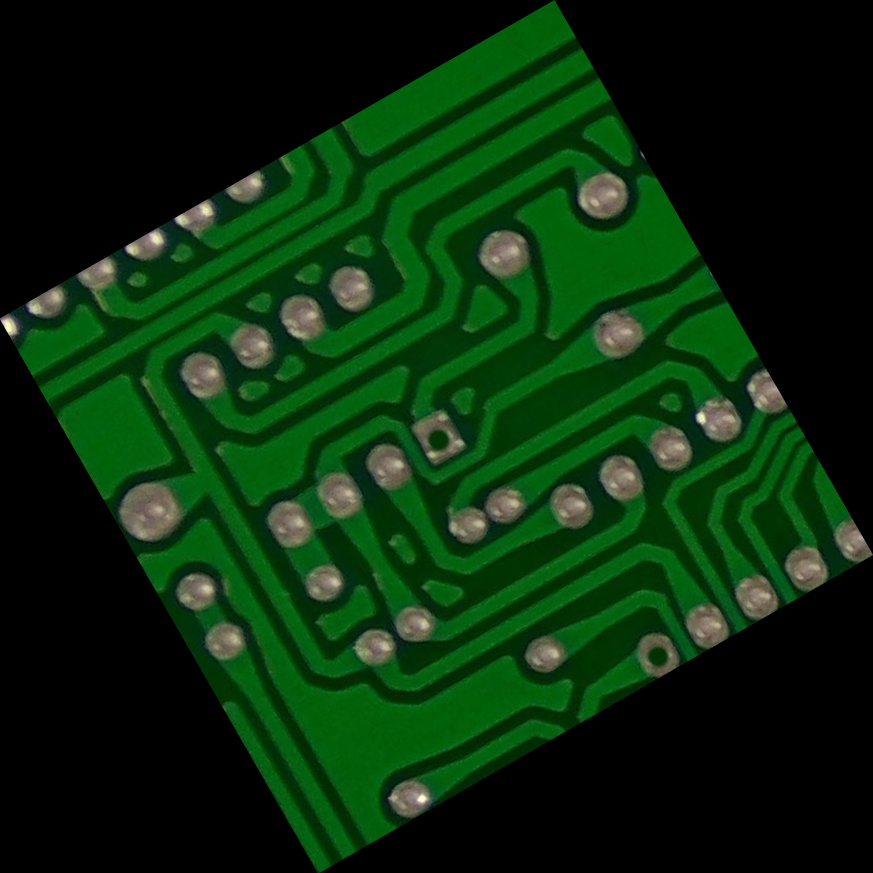missing_hole: (396, 394, 483, 481), (618, 613, 691, 685)
